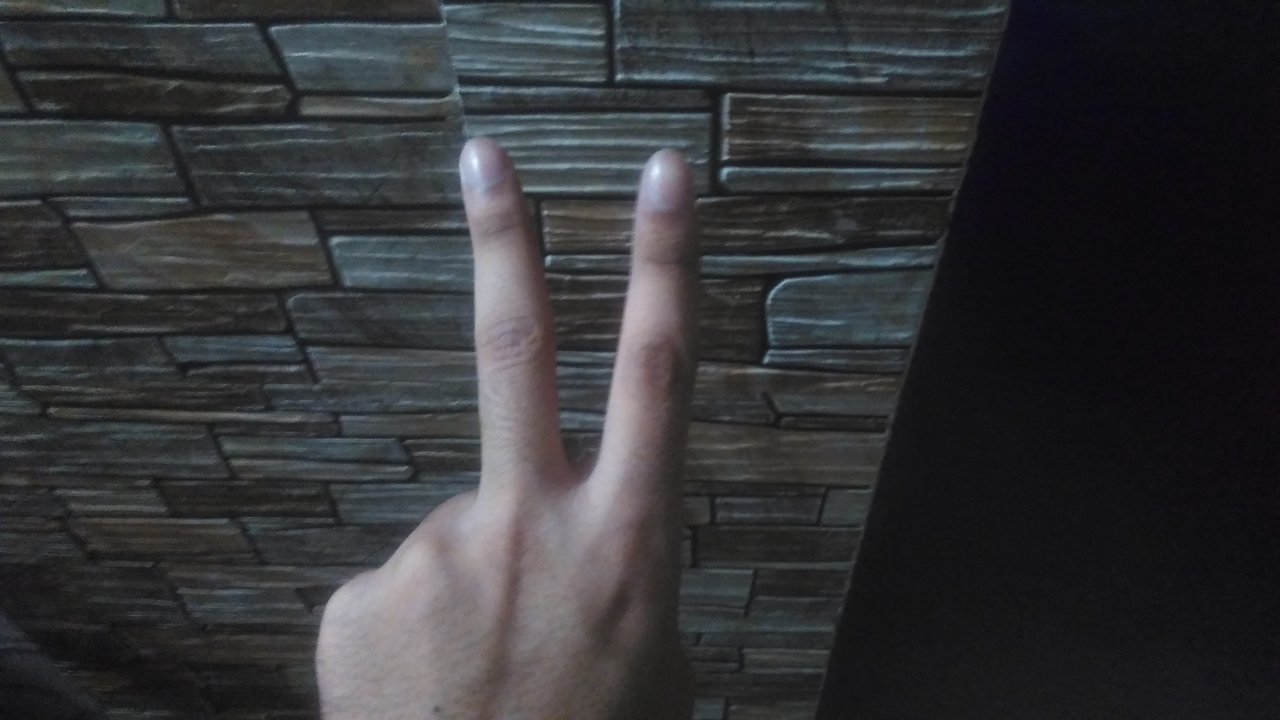fingertip: (632, 144, 696, 212), (448, 132, 514, 194)
